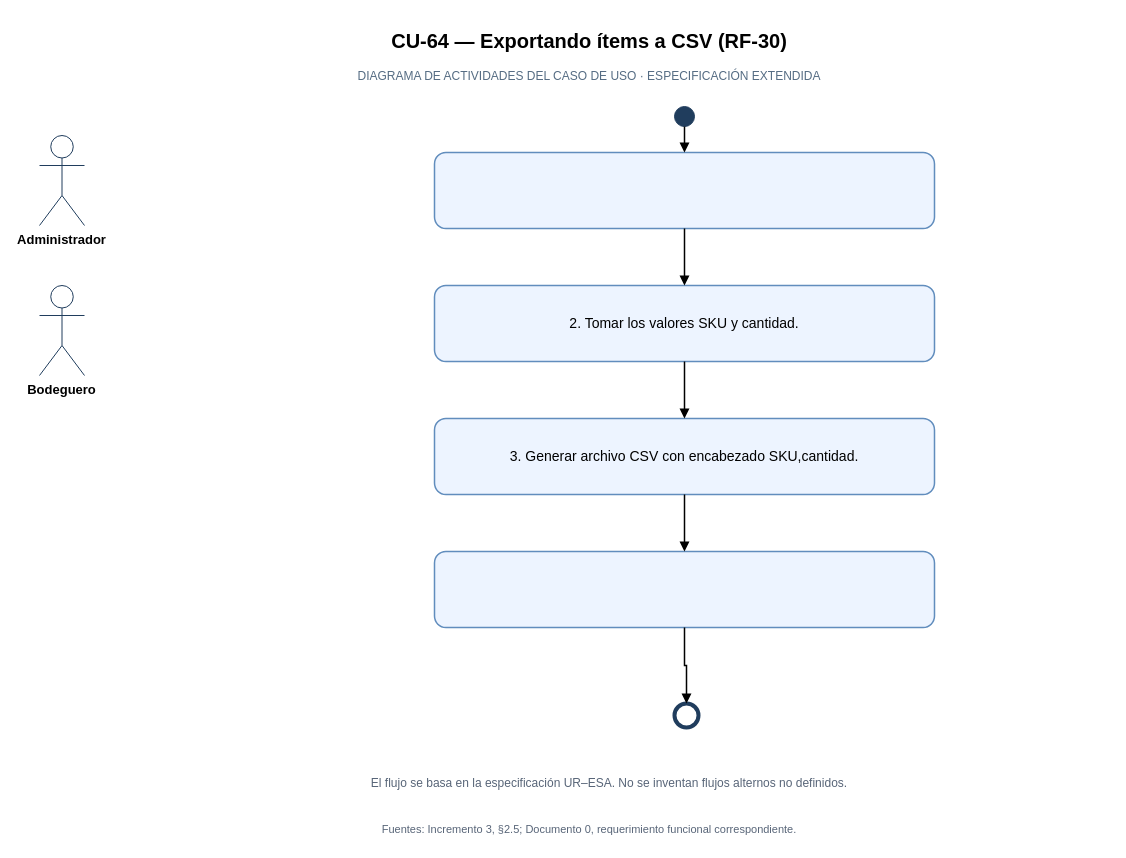
The diagram is 1126 pixels wide and 858 high, and some of its shapes have lost their labels. The shapes that lost their labels are listed below. From the top down, each one's box as (x1, y1, x2, y2) in pixels, then its label:
(433, 151, 935, 229): 1. Seleccionar exportación a CSV de la lista válida.
(433, 550, 935, 628): 4. Entregar el archivo para su descarga.
